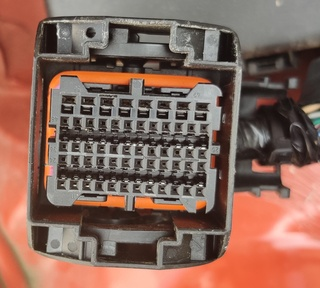connector: (27, 16, 243, 270)
